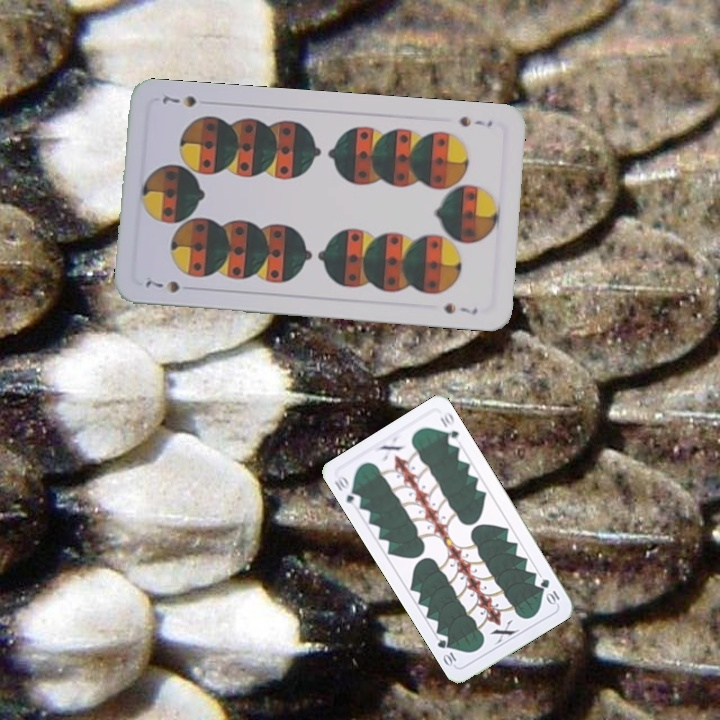G10: (330, 472, 364, 510), (536, 575, 562, 608)
S7: (141, 276, 182, 296), (456, 112, 495, 130)
